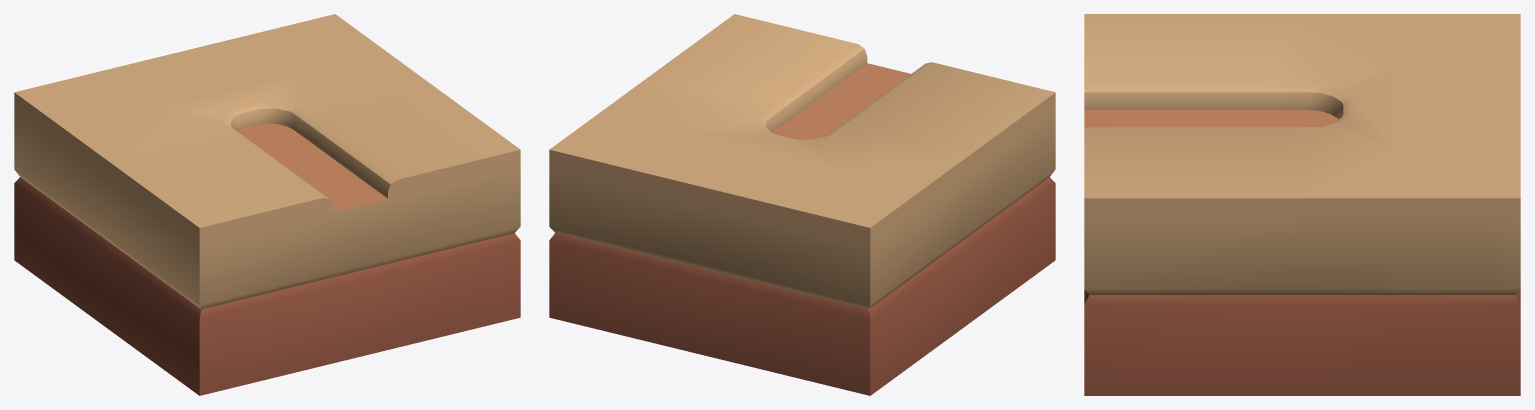
Rendered from square_sand_roadA_detail.glb.
3 renders of one model, left to right at view 1: azimuth 30°, elevation 25°; view 2: azimuth 150°, elevation 25°; view 3: azimuth 270°, elevation 25°, orthographic. The views are drawn at different scales.
Visible parts, largest first — view 1: square_sand_roadA_detail; view 2: square_sand_roadA_detail; view 3: square_sand_roadA_detail.
Part boxes in pixels (box(x1,y1,x2,y2)): square_sand_roadA_detail: box(14, 14, 520, 395); square_sand_roadA_detail: box(549, 14, 1055, 395); square_sand_roadA_detail: box(1084, 14, 1520, 395).
Bounding box in the file's own units: 3.82 × 1.91 × 3.82.
